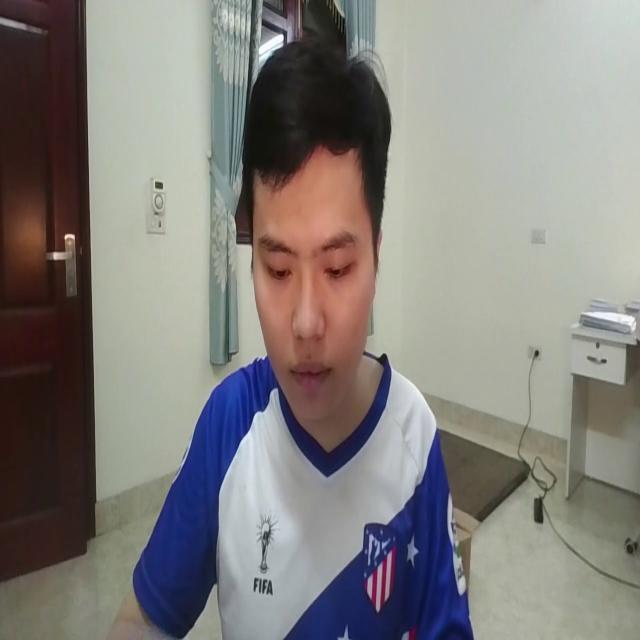student: (99, 39, 484, 640)
